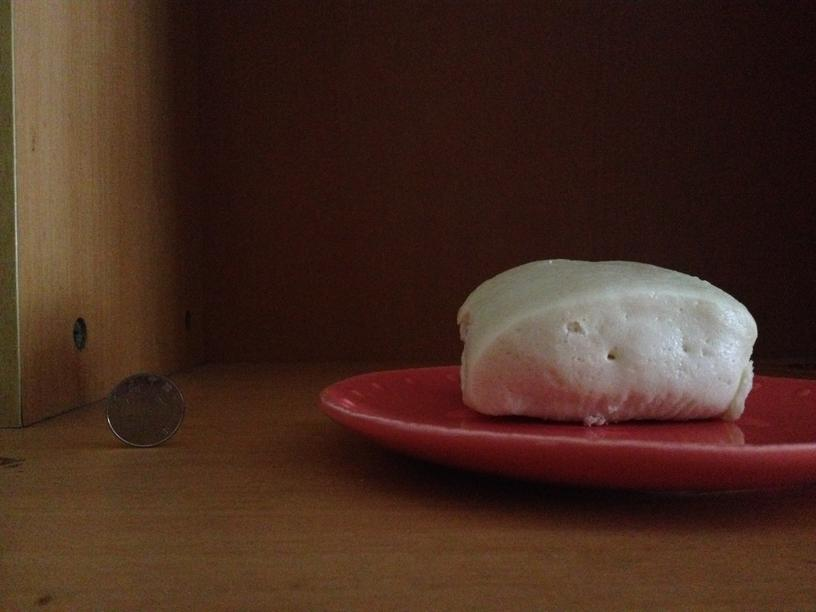bun: (451, 259, 754, 421)
coin: (104, 374, 188, 448)
